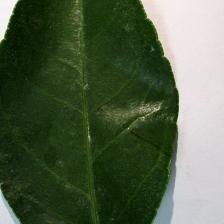healthy: (0, 0, 180, 224)
